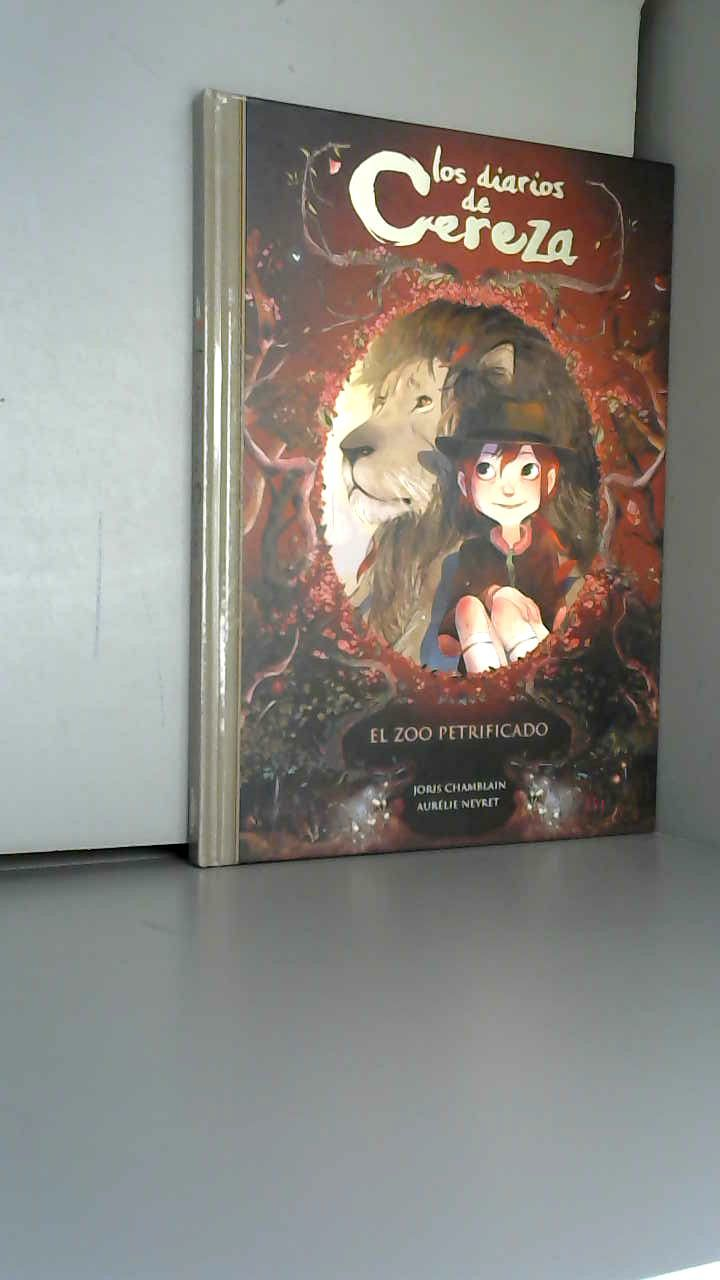book: (160, 60, 720, 890)
